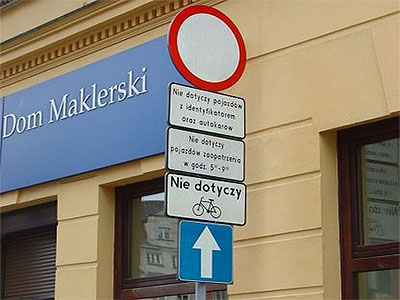no_entry_sign: (167, 4, 247, 93)
